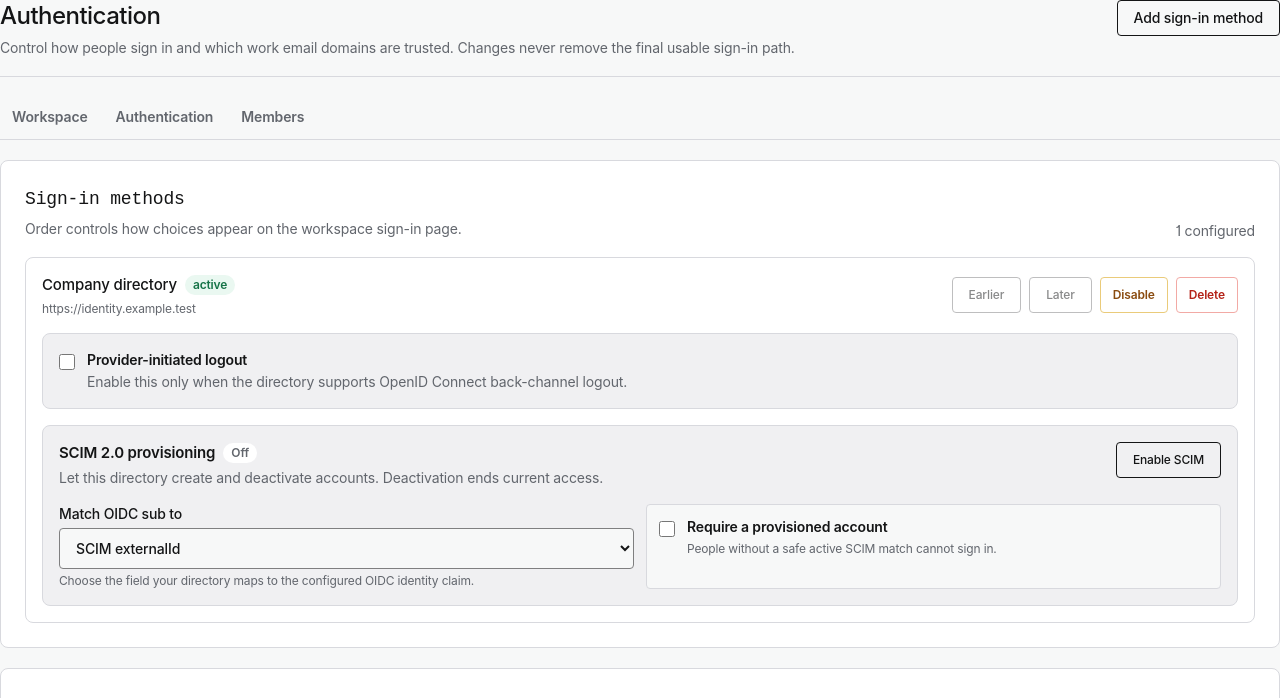
Scenario: workspace settings screens › requires a typed workspace address before disabling a sign-in method
This screenshot has width=1280, height=698.
Click the button "Disable".
click(1134, 295)  # box [1100, 277, 1168, 313]
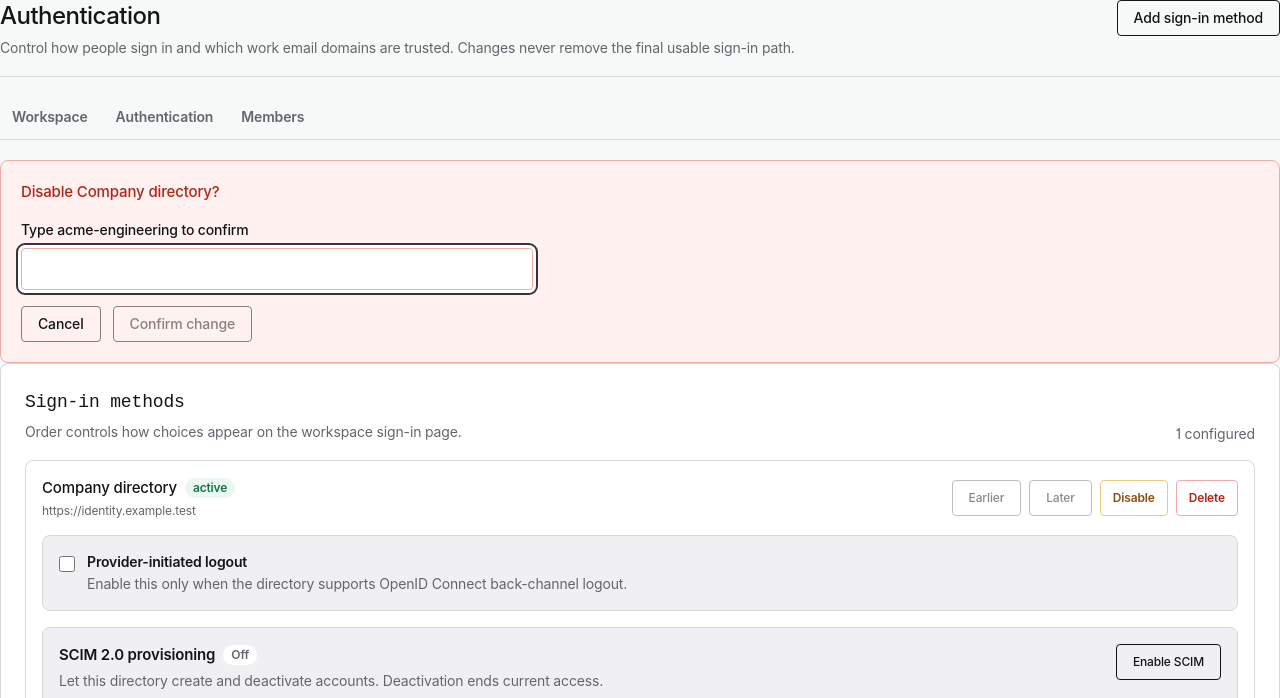
Expected: the button "Confirm change" is disabled, [113, 306, 252, 342]
Type "different" into the field labelled "Type acme-engineering to confirm".
click(277, 268); type("different")  # box [21, 248, 533, 290]
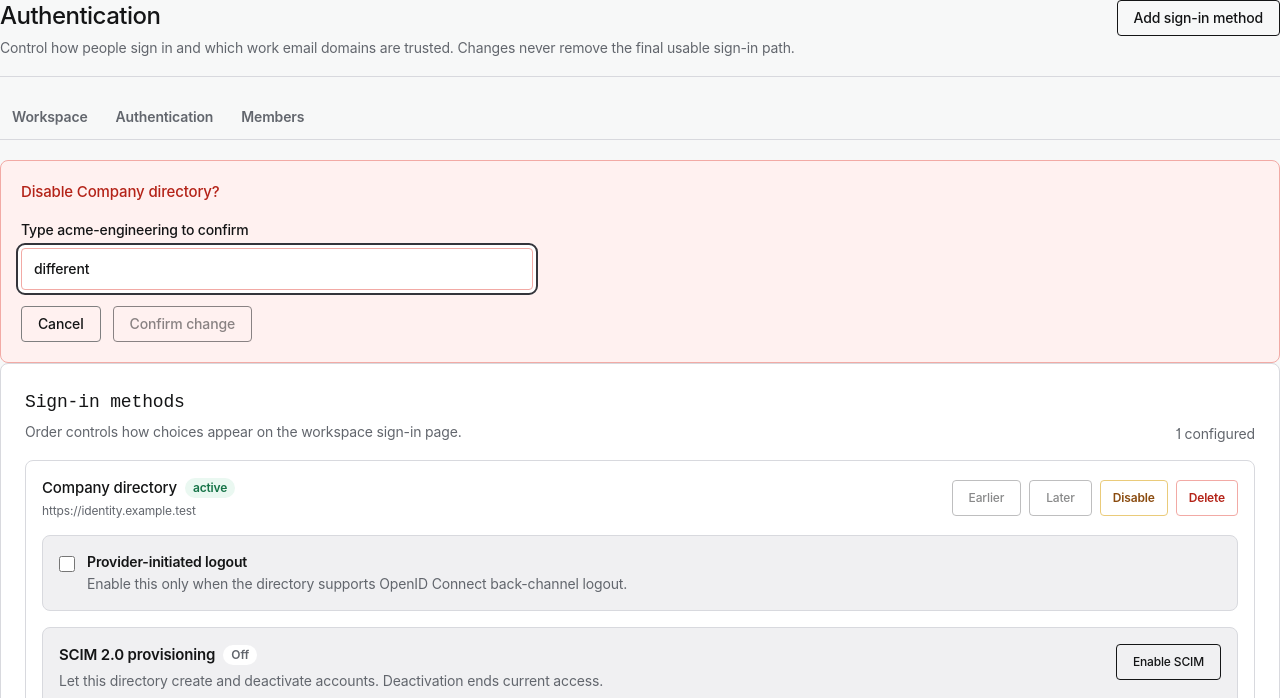
Expected: the button "Confirm change" is disabled, [113, 306, 252, 342]
Click the button "Cancel".
click(61, 324)  # box [21, 306, 101, 342]
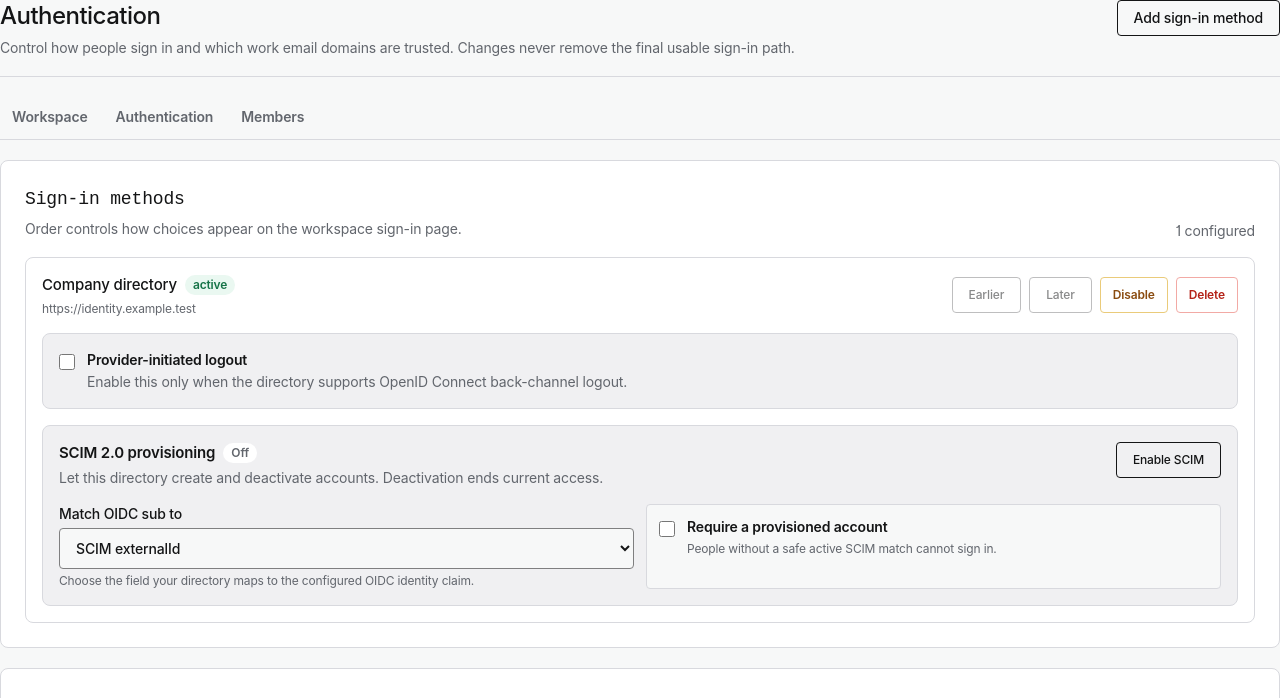
Expected: the dialog is gone
